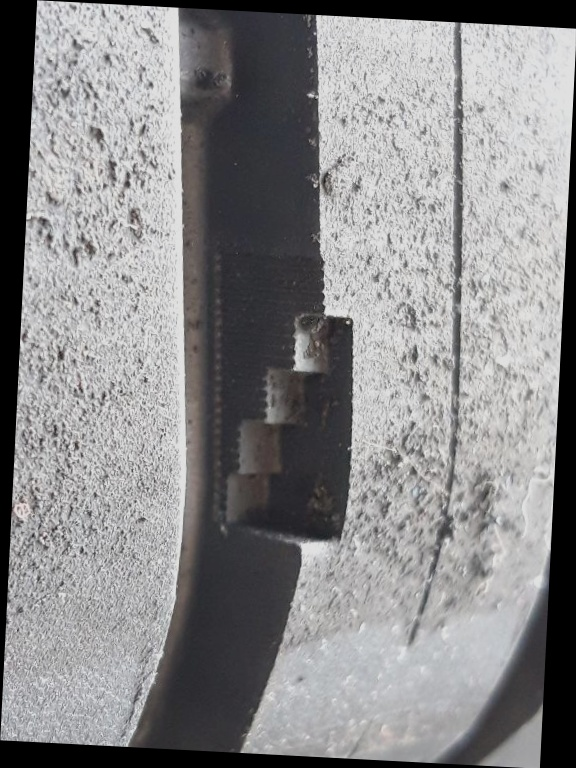temoin:95: (186, 241, 381, 564)
